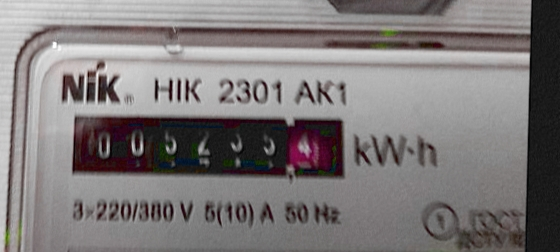0: (129, 125, 150, 158), (97, 128, 116, 159)
2: (195, 124, 217, 158)
3: (227, 122, 252, 156)
4: (296, 124, 319, 161)
5: (261, 122, 284, 159), (163, 124, 183, 157)
screen: (57, 98, 361, 193)
